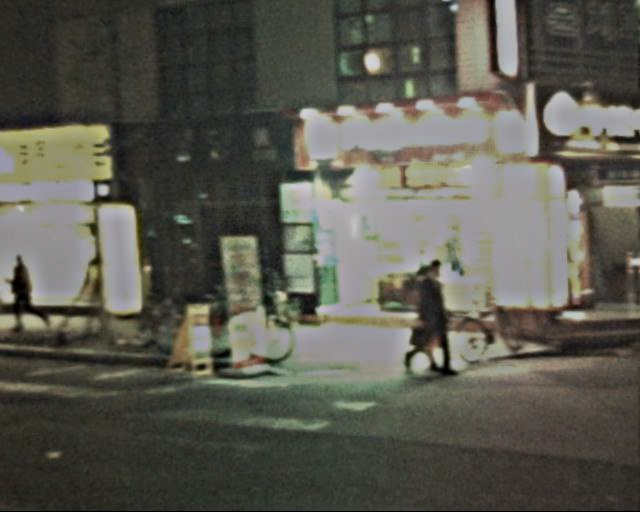person: (392, 259, 452, 382), (4, 242, 39, 335)
